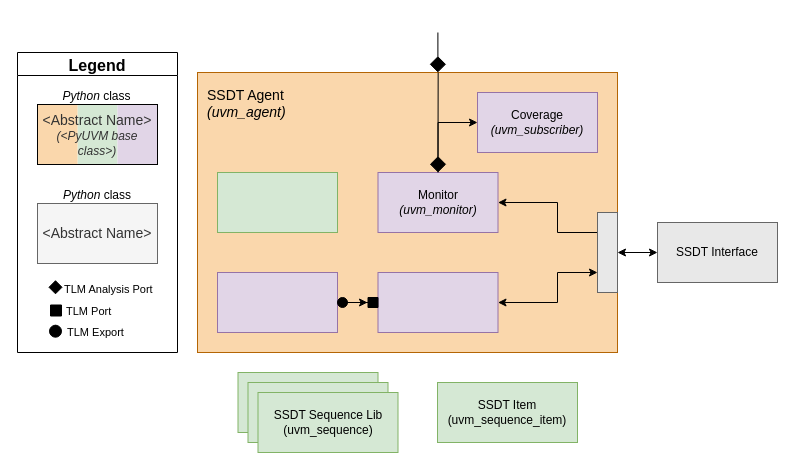
The diagram is 795 pixels wide and 470 high, and some of its shapes have lost their labels. The centre of each missing label's shape, as x and y in pixels:
"Configuration (uvm_object)" belongs at (x=277, y=202).
"Driver (uvm_driver)" belongs at (x=437, y=302).
"Sequencer (uvm_sequencer)" belongs at (x=277, y=302).
"Virtual IF" belongs at (x=607, y=252).
